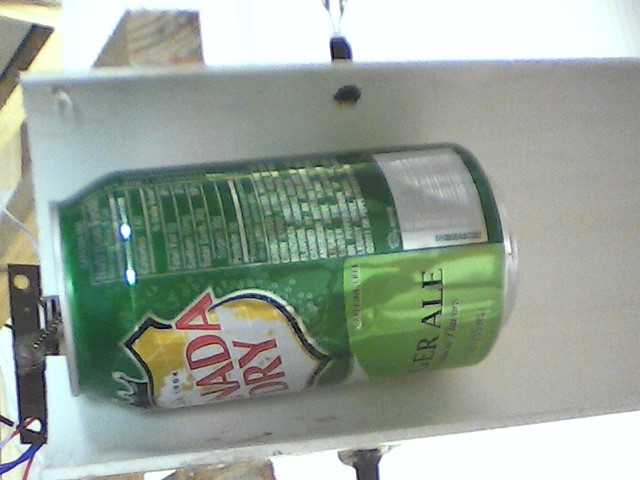lata: (45, 139, 529, 410)
